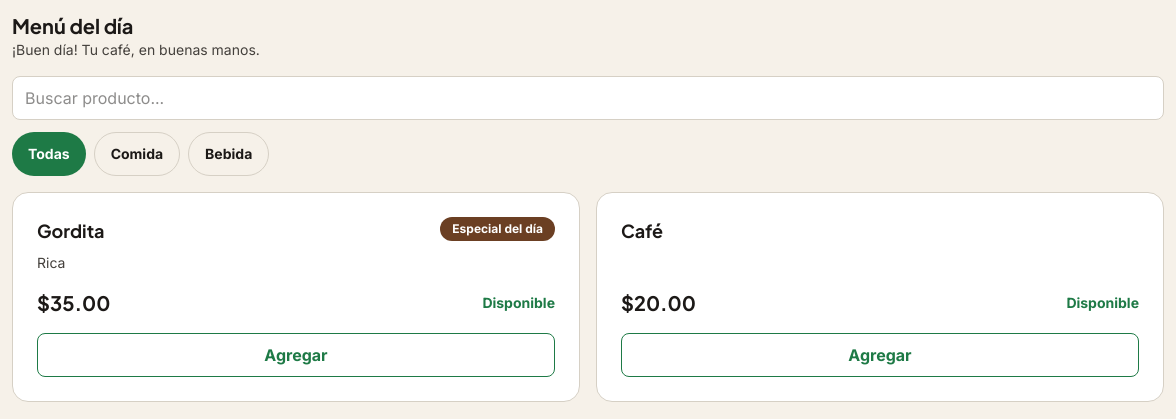
Test case: cliente rediseñado › menú filtra por texto y categoría, con vacío de filtro
This screenshot has width=1176, height=419.
expect the heading "Gordita" is shown: met, box left=37, top=217, right=104, bottom=245
Type "zzz" into the field labelled "Buscar producto..." at (588, 98), box left=12, top=76, right=1164, bottom=120
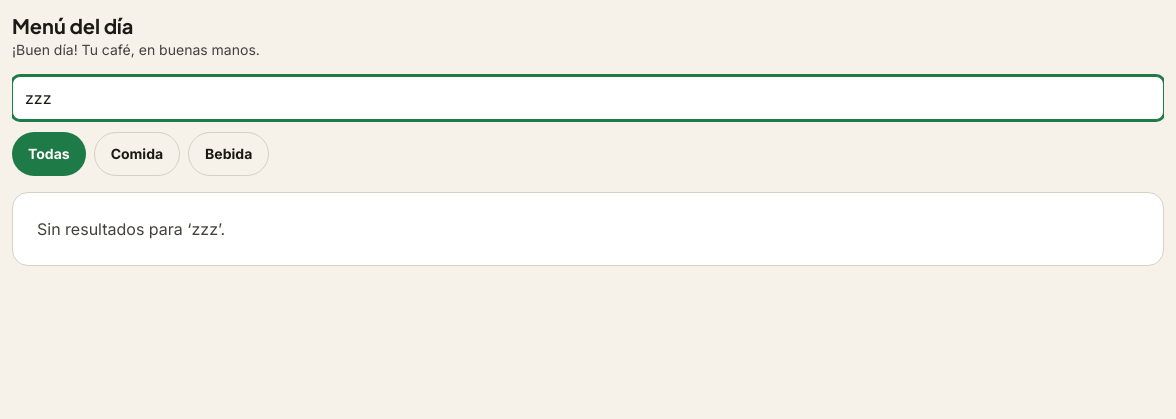
expect the text "Sin resultados para ‘zzz’." is shown: met, box left=37, top=219, right=225, bottom=239
Clear the field named "Buscar" at (588, 98), box left=12, top=76, right=1164, bottom=120
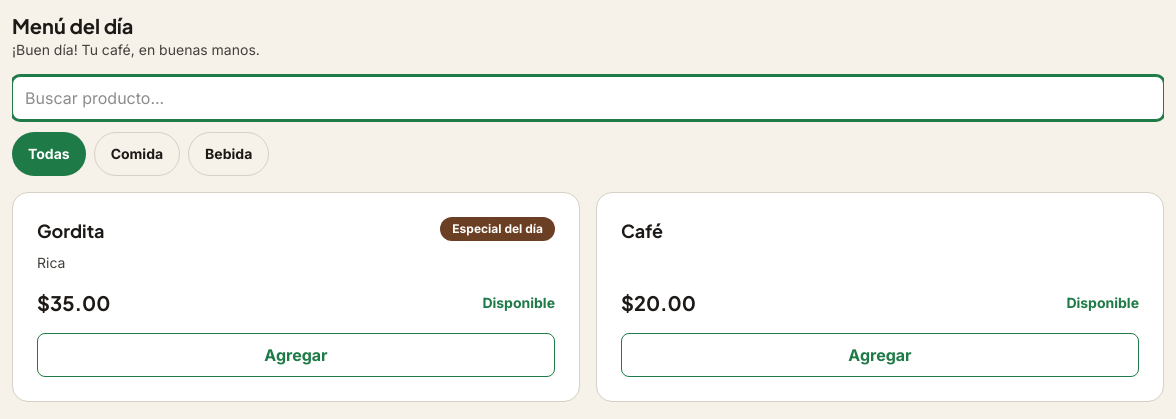
Click the button "Bebida" at (229, 154), box left=188, top=132, right=269, bottom=176
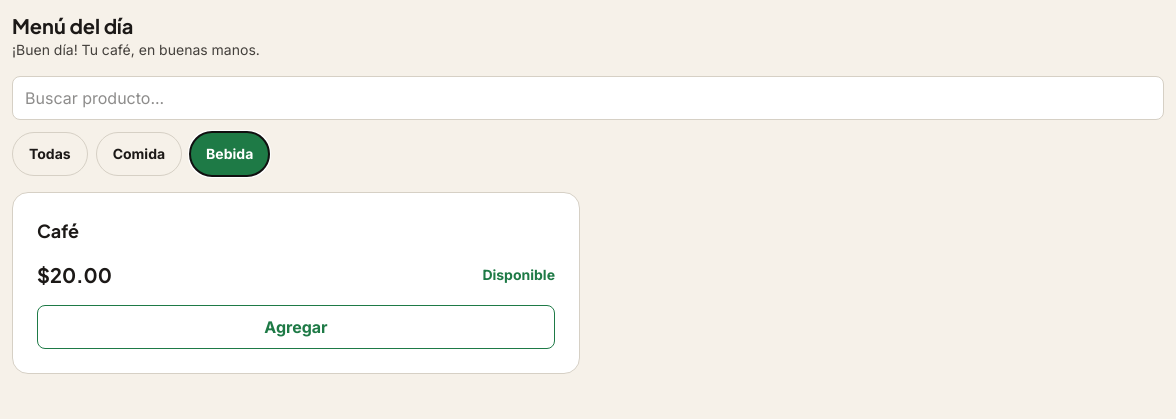
expect the heading "Café" is shown: met, box left=37, top=217, right=79, bottom=245
expect the heading "Gordita" is gone: met
